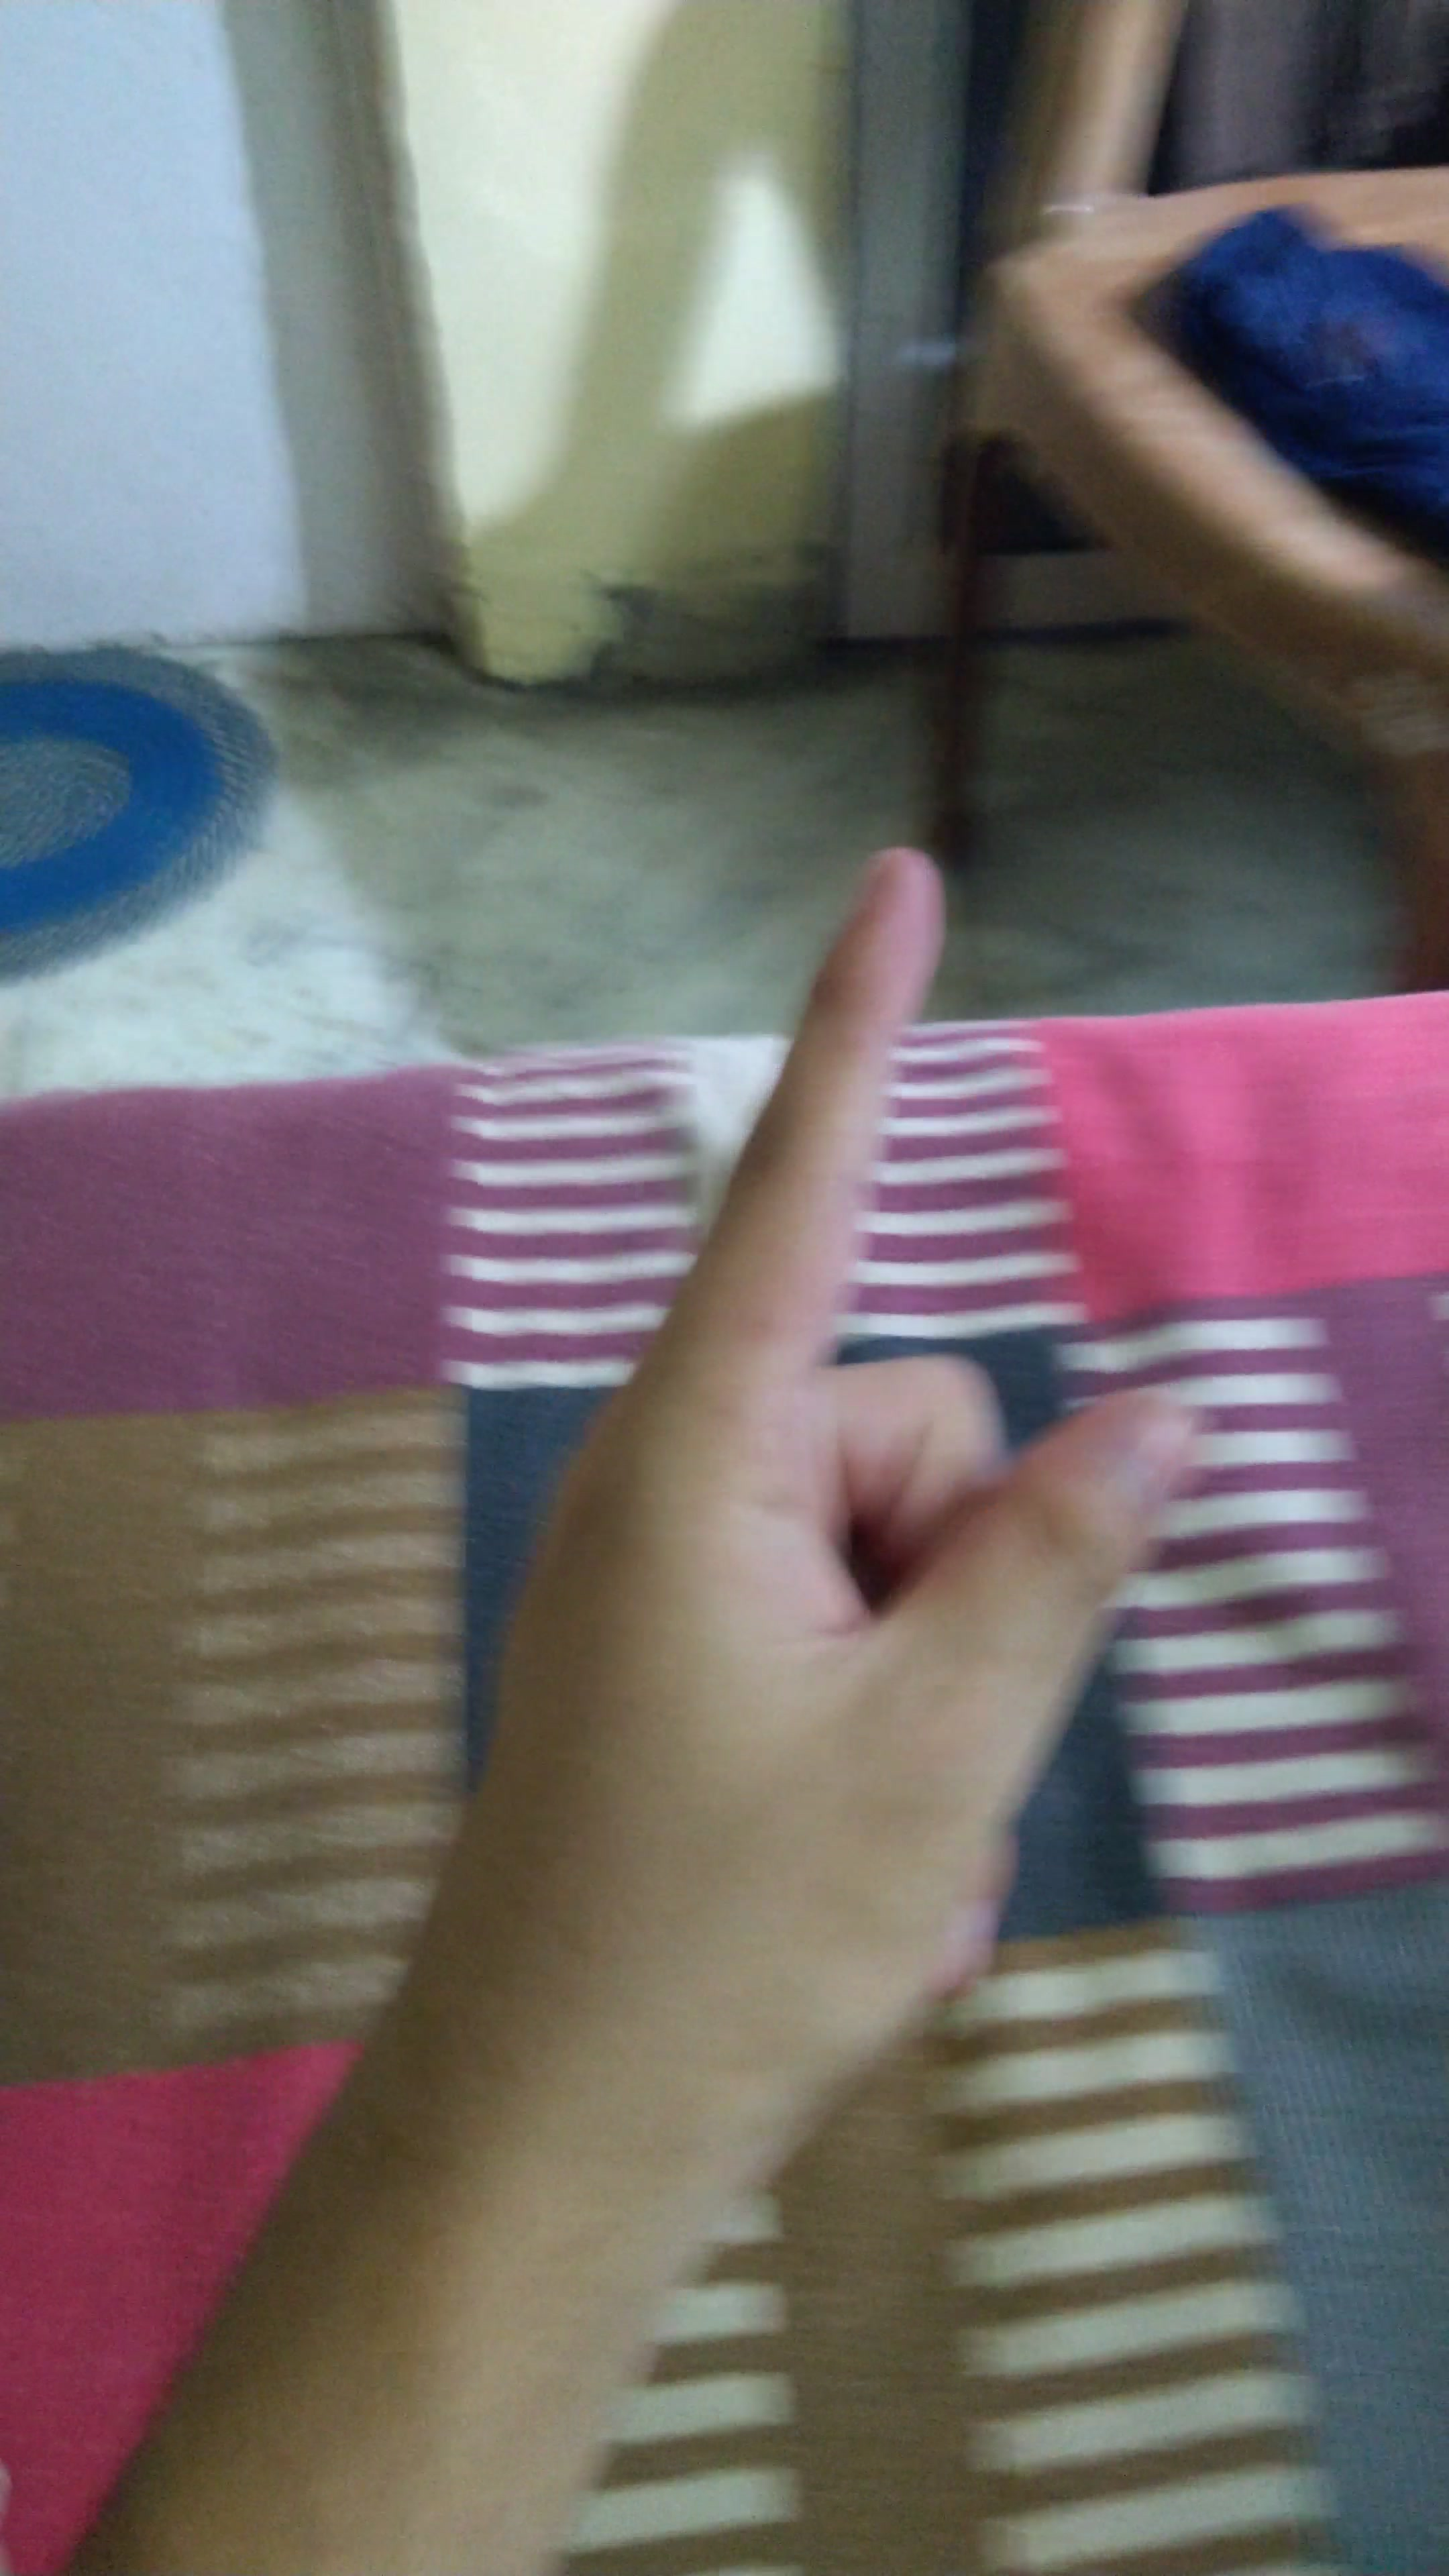hand: (326, 801, 1260, 2123)
